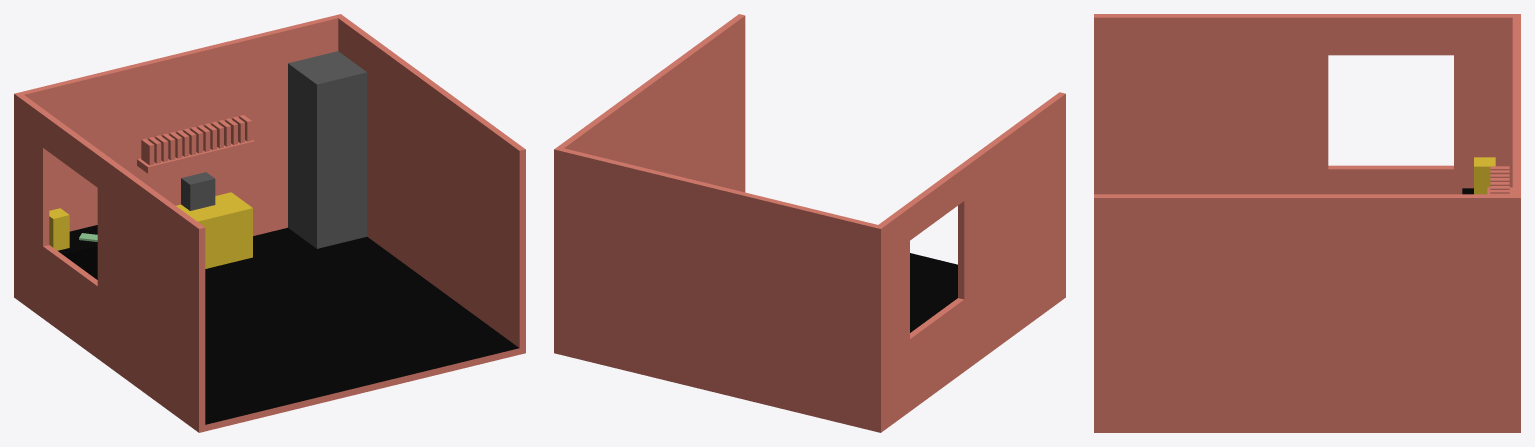
File: room.glb
The picture shows the model from 3 angles, left to right: view 1: azimuth 30°, elevation 25°; view 2: azimuth 150°, elevation 25°; view 3: azimuth 270°, elevation 25°; orthographic projection. The views are drawn at different scales.
Parts seen in each view (by area): view 1: Body1, Body1.004, Body1.003, Body1.009, Body1.006, Body1.001, Body1.008; view 2: Body1; view 3: Body1, Body1.008, Body1.003.
Part boxes in pixels (x1=…): Body1: x1=14, y1=14, x2=525, y2=432; Body1.004: x1=288, y1=51, x2=367, y2=248; Body1.003: x1=137, y1=115, x2=254, y2=173; Body1.009: x1=176, y1=192, x2=252, y2=268; Body1.006: x1=58, y1=225, x2=97, y2=279; Body1.001: x1=181, y1=172, x2=215, y2=210; Body1.008: x1=49, y1=208, x2=69, y2=250; Body1: x1=554, y1=14, x2=1065, y2=432; Body1: x1=1094, y1=14, x2=1520, y2=432; Body1.008: x1=1474, y1=157, x2=1495, y2=194; Body1.003: x1=1487, y1=166, x2=1512, y2=194.
Bounding box in the file's own units: 5.2 × 3.1 × 5.1.
